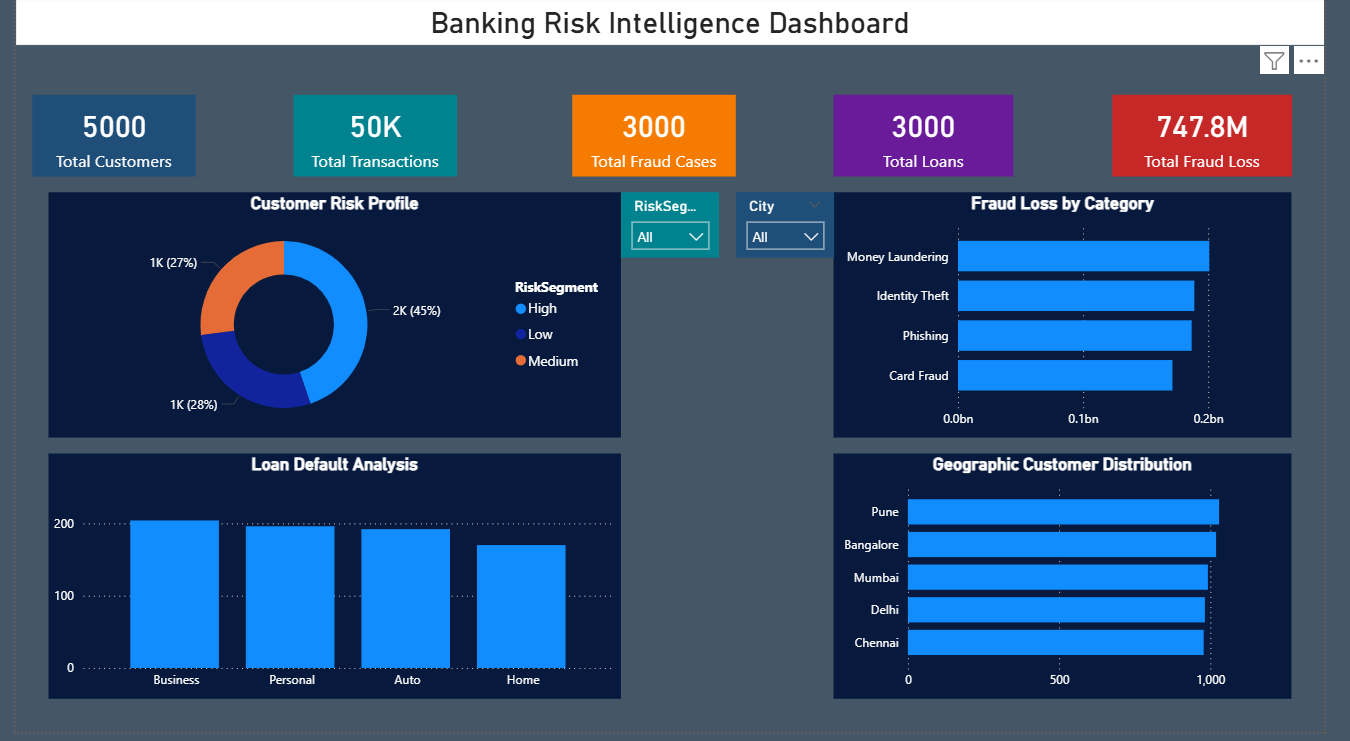

What the dashboard file says about the page in this screenshot:
{"tool":"powerbi","page":{"name":"Executive Risk Overview","canvas":[1280,720],"ordinal":0},"visuals":[{"type":"card","fields":{"Values":["Customers.Total Customer"]},"box":[16,96,160,80],"z":0},{"type":"card","fields":{"Values":["Accounts.Total Transactions"]},"box":[272,96,160,80],"z":1000},{"type":"card","fields":{"Values":["FraudCases.Total Fraud Case"]},"box":[544,96,160,80],"z":2000},{"type":"card","fields":{"Values":["FraudCases.Total Fraud Loss"]},"box":[1072,96,176,80],"z":3000},{"type":"card","fields":{"Values":["Loans.Total Loans"]},"box":[800,96,176,80],"z":4000},{"type":"card","fields":{"Values":["Accounts.Title 1"]},"box":[0,0,1280,48],"z":5000},{"type":"donutChart","title":"Customer Risk Profile","fields":{"Category":["Customers.RiskSegment"],"Y":["CountNonNull(Customers.CustomerID)"]},"box":[32,192,560,240],"z":6000},{"type":"clusteredBarChart","title":"Fraud Loss by Category","fields":{"Category":["FraudCases.FraudType"],"Y":["FraudCases.Total Fraud Loss"]},"box":[800,192,448,240],"z":7000},{"type":"clusteredColumnChart","title":"Loan Default Analysis","fields":{"Category":["Loans.LoanType"],"Y":["Sum(Loans.DefaultFlag)"]},"box":[32,448,560,240],"z":8000},{"type":"clusteredBarChart","title":"Geographic Customer Distribution","fields":{"Category":["Customers.City"],"Y":["CountNonNull(Customers.CustomerID)"]},"box":[800,448,448,240],"z":9000},{"type":"slicer","fields":{"Values":["Customers.City"]},"box":[704,192,96,64],"z":10000},{"type":"slicer","fields":{"Values":["Customers.RiskSegment"]},"box":[592,192,96,64],"z":11000}]}

Visuals, with their boxes in screenshot pixels (x1, y1, x2, y2), scaled from the page's 1280x720 canvas onto the 1350x741 screenshot:
card - Customers.Total Customer: (x1=17, y1=99, x2=186, y2=181)
card - Accounts.Total Transactions: (x1=287, y1=99, x2=456, y2=181)
card - FraudCases.Total Fraud Case: (x1=574, y1=99, x2=742, y2=181)
card - FraudCases.Total Fraud Loss: (x1=1131, y1=99, x2=1316, y2=181)
card - Loans.Total Loans: (x1=844, y1=99, x2=1029, y2=181)
card - Accounts.Title 1: (x1=0, y1=0, x2=1349, y2=49)
"Customer Risk Profile" donutChart: (x1=34, y1=198, x2=624, y2=445)
"Fraud Loss by Category" clusteredBarChart: (x1=844, y1=198, x2=1316, y2=445)
"Loan Default Analysis" clusteredColumnChart: (x1=34, y1=461, x2=624, y2=708)
"Geographic Customer Distribution" clusteredBarChart: (x1=844, y1=461, x2=1316, y2=708)
slicer - Customers.City: (x1=742, y1=198, x2=844, y2=263)
slicer - Customers.RiskSegment: (x1=624, y1=198, x2=726, y2=263)
